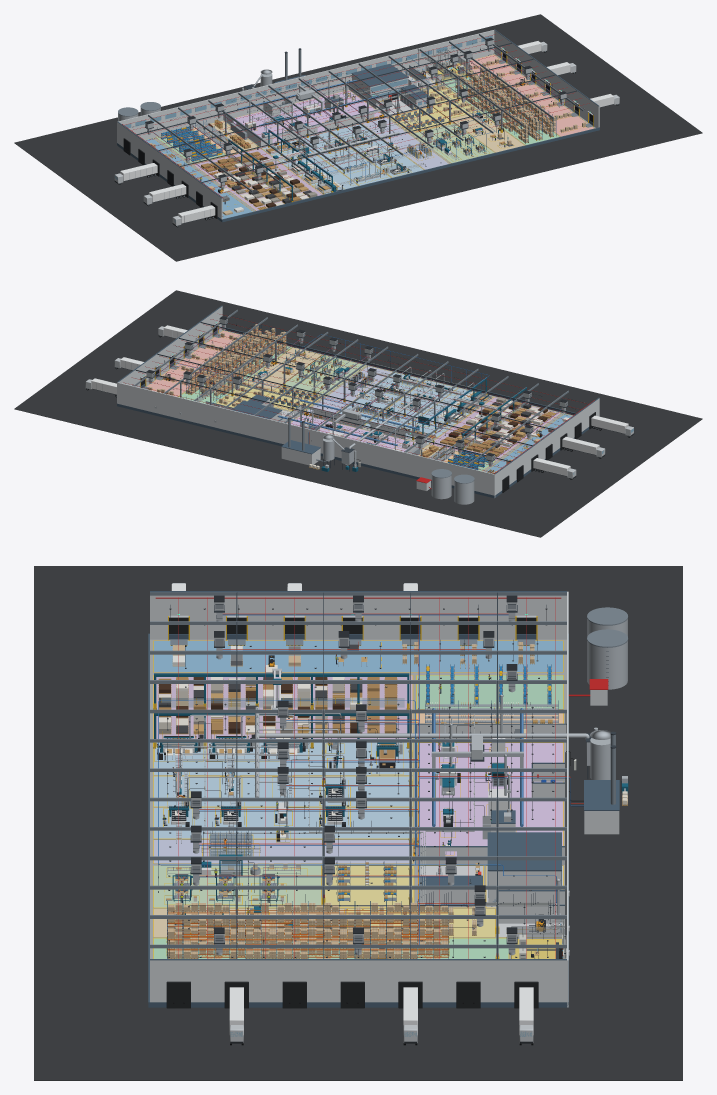
File: factory_web.glb
3 views of the same model, one above another, from view 1: azimuth 30°, elevation 25°; view 2: azimuth 150°, elevation 25°; view 3: azimuth 270°, elevation 25° (orthographic). The views are drawn at different scales.
Visible parts, largest first — view 1: Майданчик і підлога, Стіни, Ферми, SPRINKLERS, Перегородки, Z-OUT, Z-FAC, Z-EB, DUST, OFFICE, Z-CNC, Z-ASM (+19 smaller); view 2: Майданчик і підлога, Стіни, Ферми, SPRINKLERS, OUTSIDE, DUST, Z-OUT, HEAT-NET, Z-ASM, Перегородки, Z-SHEETS, GANTRY-1 (+18 smaller); view 3: Майданчик і підлога, Стіни, Ферми, Z-RCV, Z-FAC, OUTSIDE, Z-EB, Перегородки, HEAT-NET, Z-CNC, DUST, Z-ASM (+30 smaller).
Part boxes in pixels (x1,y1,x2,y2): Майданчик і підлога: (14,14,702,261); Стіни: (117,29,599,222); Ферми: (136,33,583,192); SPRINKLERS: (122,34,589,198); Перегородки: (223,65,441,147); Z-OUT: (461,54,594,136); Z-FAC: (234,90,381,143); Z-EB: (297,132,390,185); DUST: (242,79,399,181); OFFICE: (351,64,408,100); Z-CNC: (330,124,423,177); Z-ASM: (411,123,494,163); Майданчик і підлога: (14,290,702,537); Стіни: (117,305,599,498); Ферми: (133,309,576,467); SPRINKLERS: (123,314,594,473); OUTSIDE: (281,417,474,504); DUST: (311,367,474,471); Z-OUT: (146,330,245,396); HEAT-NET: (155,326,562,458); Z-ASM: (281,355,365,396); Перегородки: (205,401,426,453); Z-SHEETS: (429,397,560,460); GANTRY-1: (422,377,526,449); Майданчик і підлога: (34,566,682,1080); Стіни: (148,591,568,1007); Ферми: (150,592,566,958); Z-RCV: (153,640,563,672); Z-FAC: (418,742,563,863); OUTSIDE: (568,607,628,834); Z-EB: (153,776,413,806); Перегородки: (415,723,566,923); HEAT-NET: (199,613,583,944); Z-CNC: (153,807,413,838); DUST: (179,694,597,826); Z-ASM: (153,865,321,907).
Size of the model in its own units: 210 by 15.8 by 112.
